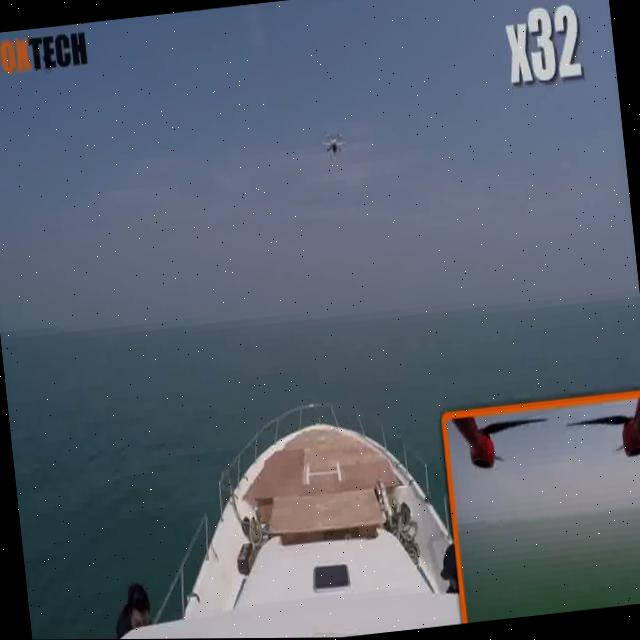drone: (317, 123, 349, 169)
